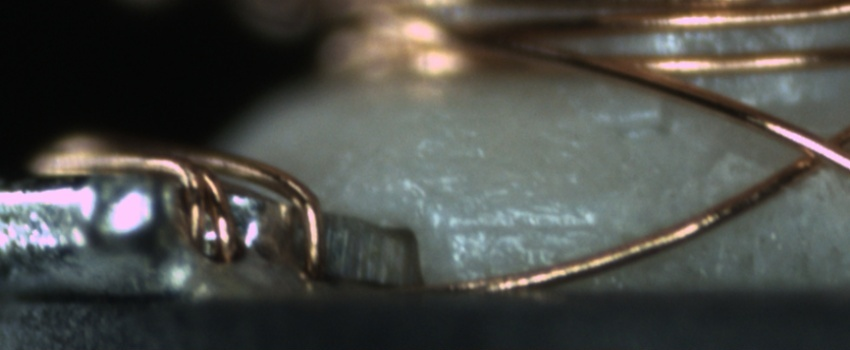CL: (772, 117, 847, 184)
DL: (437, 193, 602, 258)
TE: (30, 127, 340, 276)
